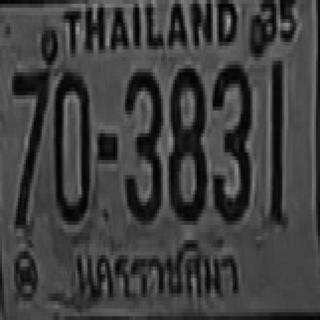N00: (54, 68, 89, 221)
N01: (270, 59, 282, 223)
N03: (211, 61, 250, 221), (123, 68, 161, 221)
N07: (10, 69, 48, 225)
N08: (167, 65, 205, 221)
P30: (71, 235, 243, 305)
